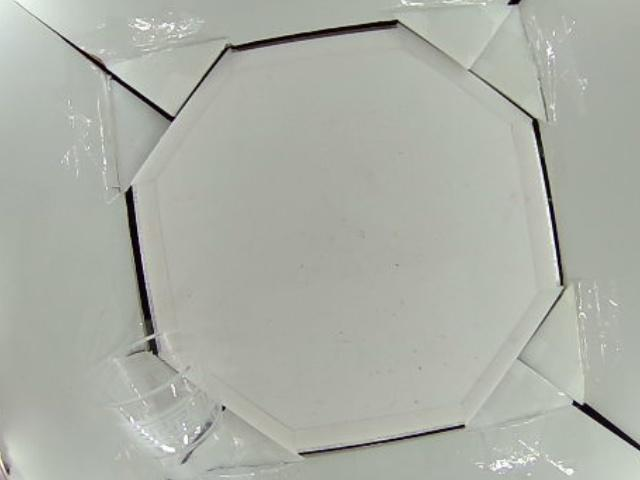Cup: (87, 326, 218, 479)
